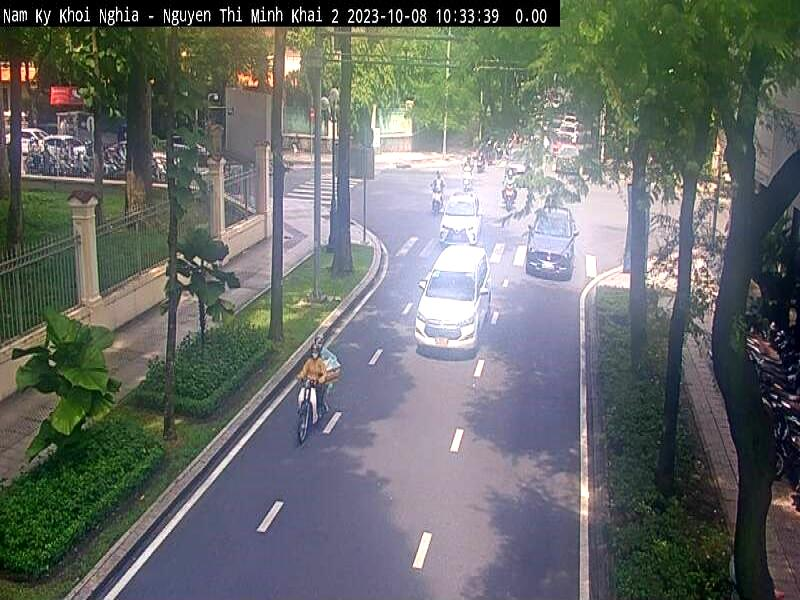car: (414, 248, 492, 352), (527, 206, 576, 280), (438, 191, 485, 248)
motorcycle: (294, 371, 322, 444)
